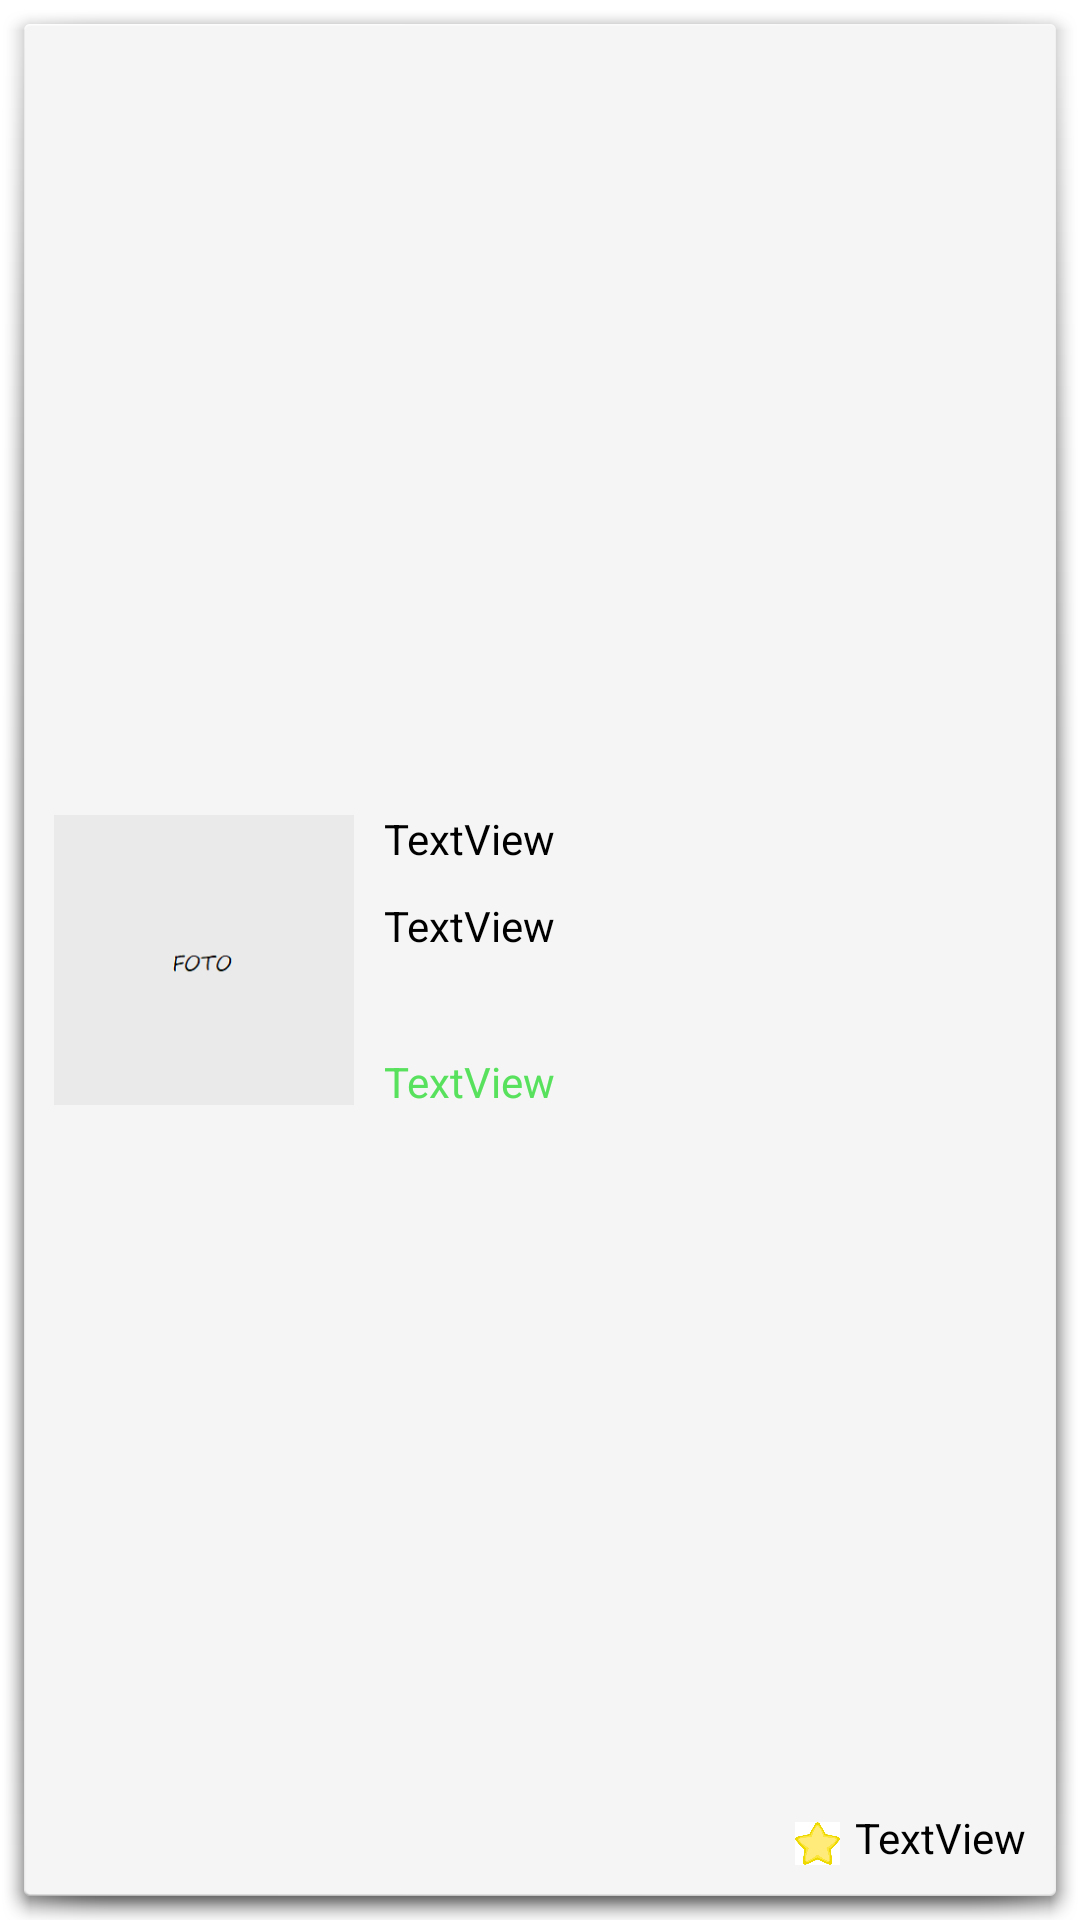

Icon click points for this 1080×1920 phone screenshot, format (x=x, y=y):
raiting: (x=817, y=1843)
